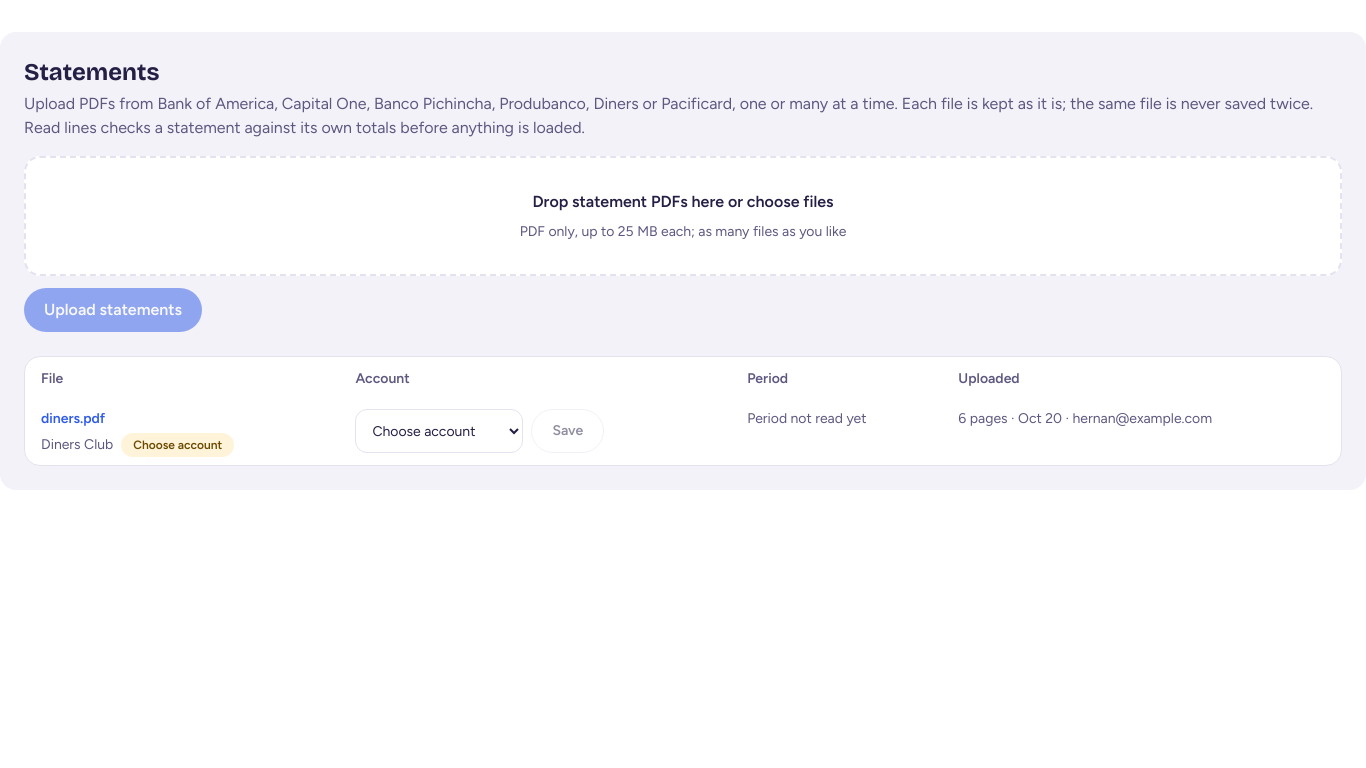
Test case: Import: statements › lets Hernan choose the account when the bank has several
Expected: the option "BofA Adv Plus Banking" is not shown
Select "Diners Club Lauren" in the dropdown named "Account for diners.pdf" at (439, 431), box [355, 409, 523, 453]
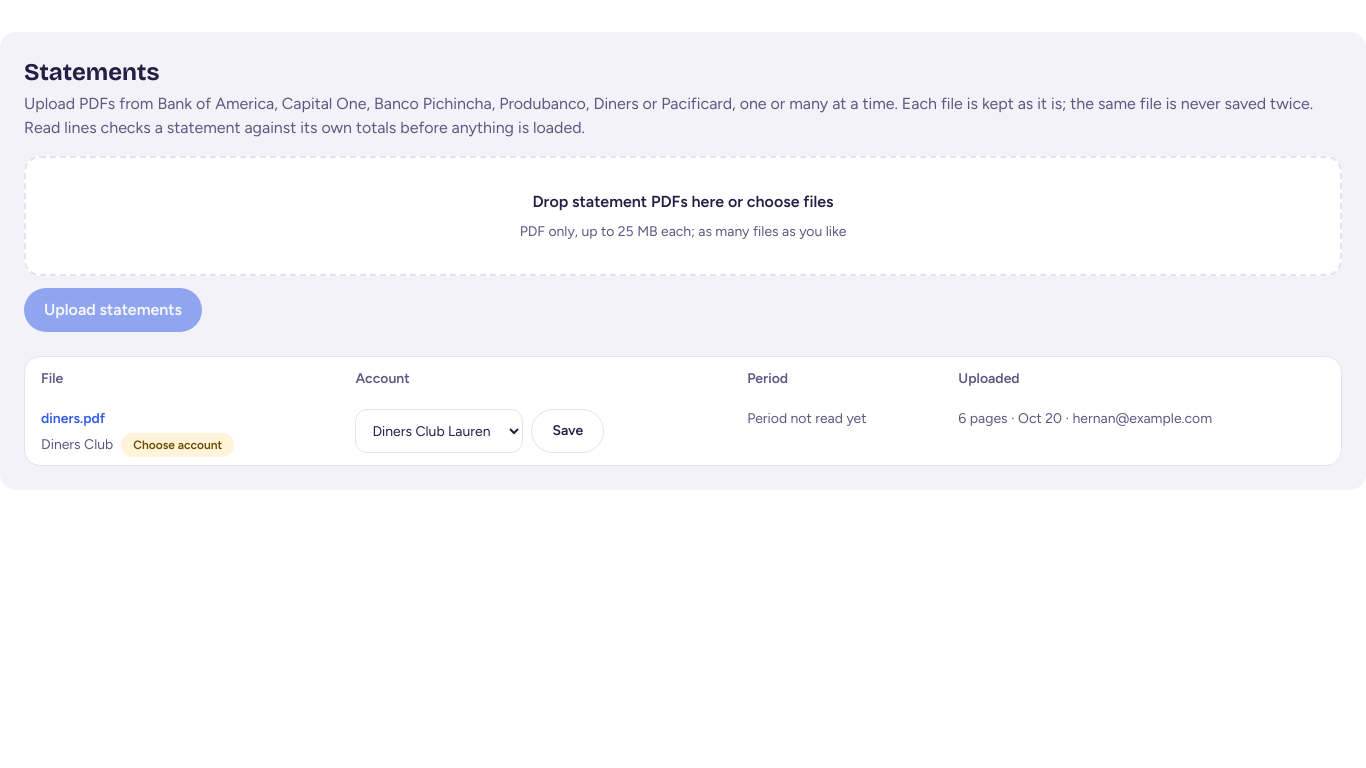
Click the button "Save" at (568, 431), box [531, 409, 604, 453]
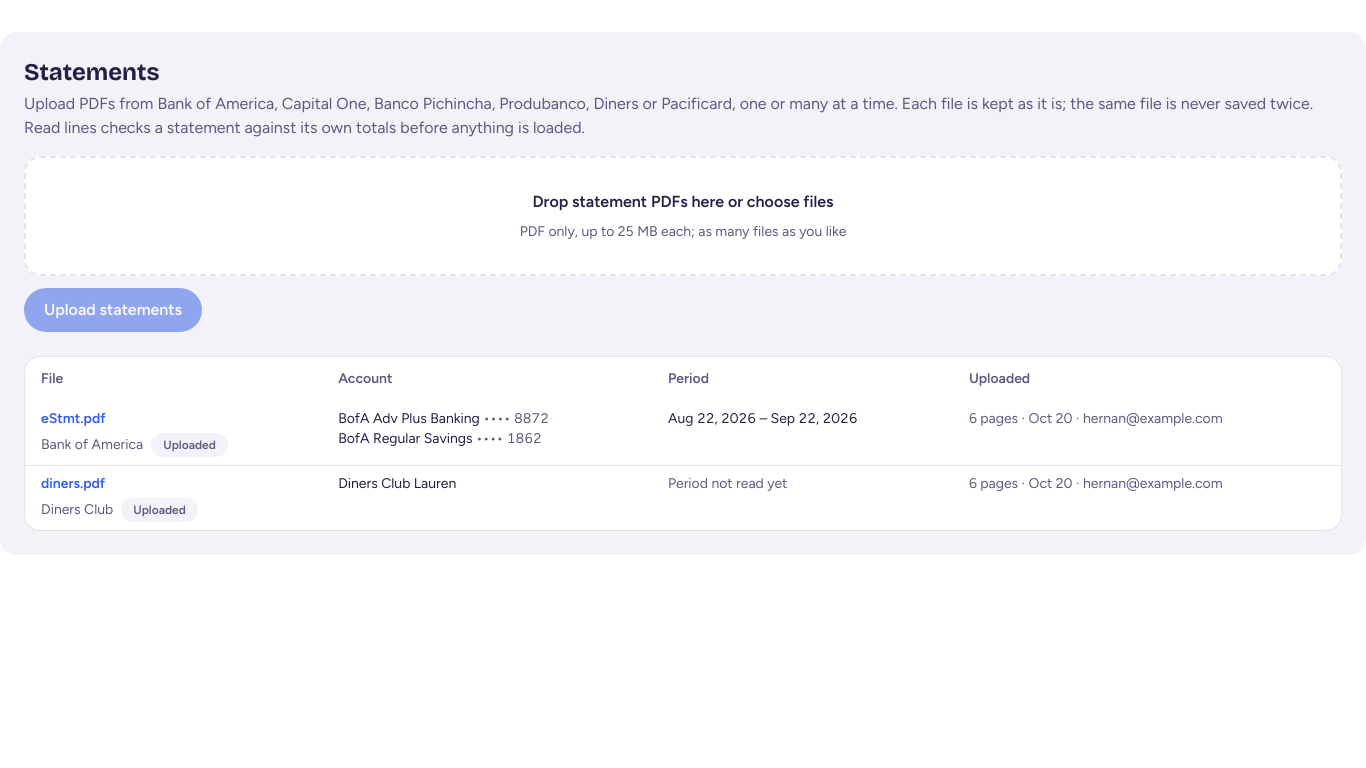
Now the text "Diners Club Lauren" is shown, box [338, 475, 456, 492]
Now the text "Uploaded" is shown 2 times, box [151, 433, 228, 457]; [121, 498, 198, 522]
